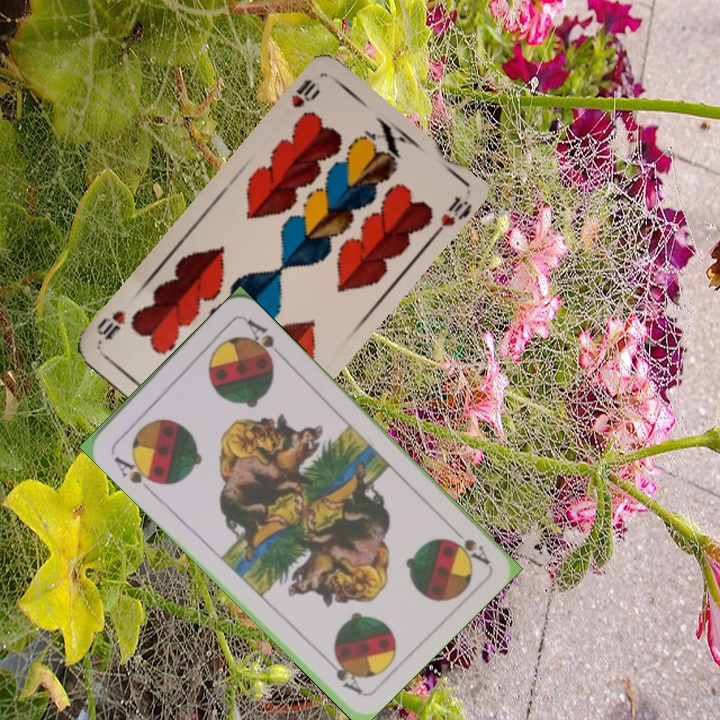H10: (287, 74, 323, 111)
SA: (443, 520, 492, 567), (110, 452, 161, 494)
